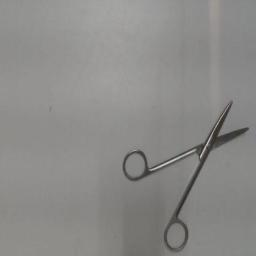Curved Mayo Scissors: (119, 92, 253, 254)
